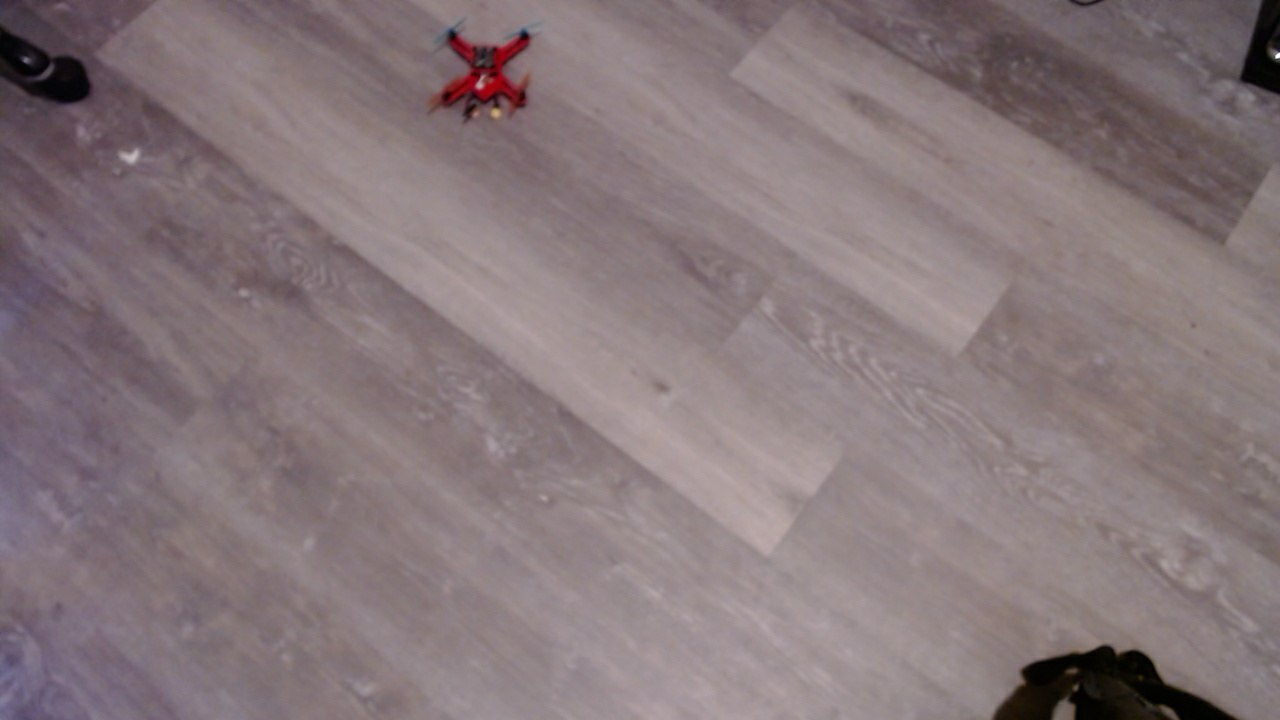crazyflie: (426, 15, 552, 130)
